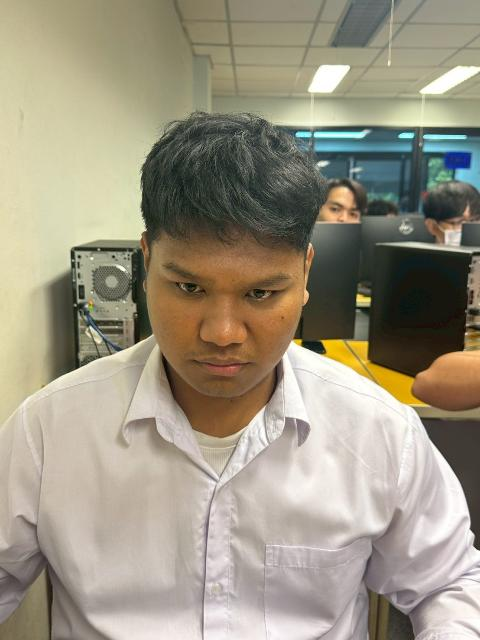fokus: (144, 162, 299, 396)
